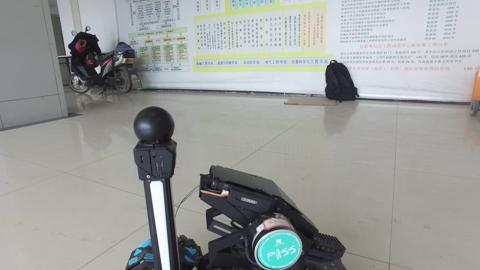bag: (314, 47, 366, 110)
chariot: (96, 93, 334, 270)
